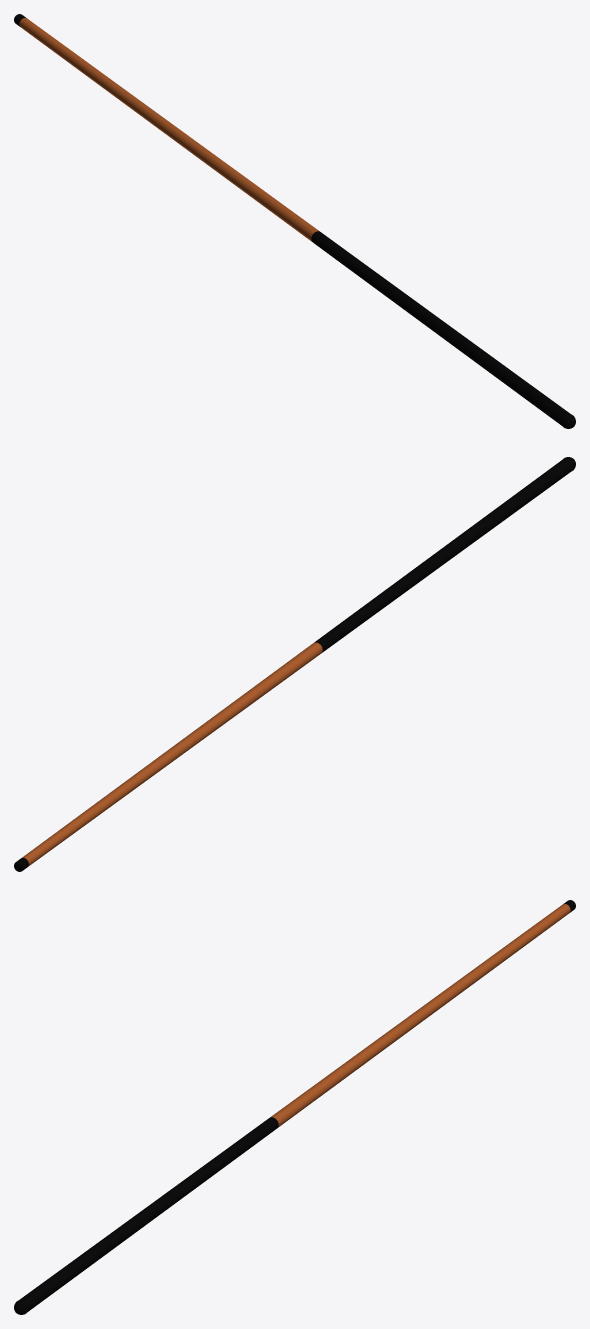
File: tago.fbx
3 renders of one model, top to bottom at view 1: azimuth 30°, elevation 25°; view 2: azimuth 150°, elevation 25°; view 3: azimuth 330°, elevation 25°, orthographic.
Parts seen in each view (by area): view 1: Sphere; view 2: Sphere; view 3: Sphere.
Boxes of the visible parts, x1=… form: Sphere: x1=14, y1=14, x2=575, y2=428; Sphere: x1=14, y1=457, x2=575, y2=871; Sphere: x1=14, y1=900, x2=575, y2=1314.
Size of the model in its own units: 196 by 196 by 14165.
